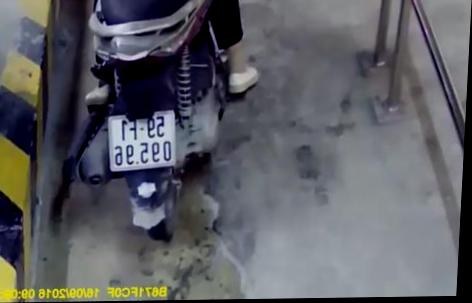License_Plate: (101, 106, 183, 180)
